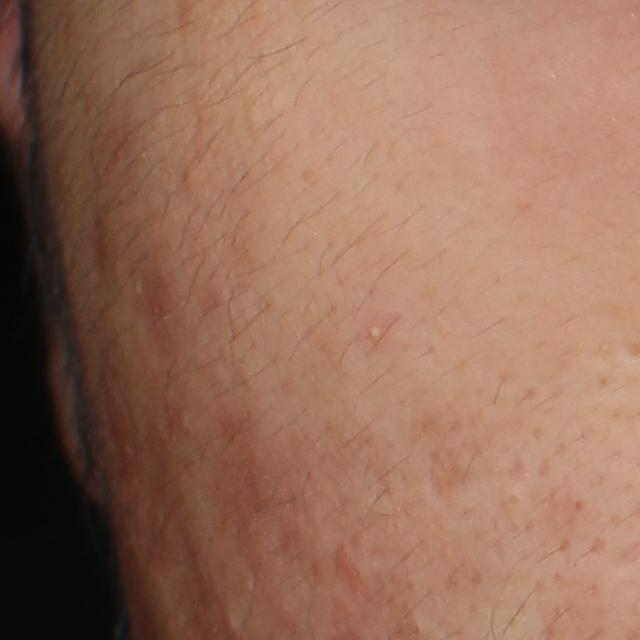atrophic_scar: (430, 449, 469, 496)
